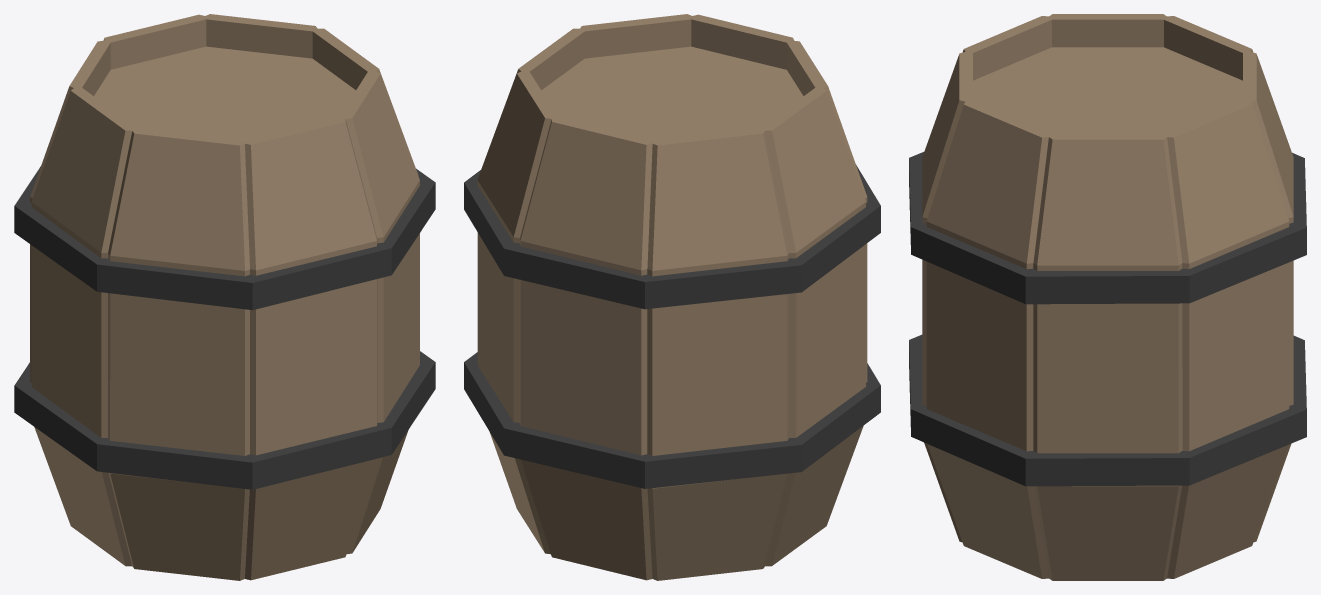
The model's file is fantasy_barrel_1.fbx.
3 renders of one model, left to right at view 1: azimuth 30°, elevation 25°; view 2: azimuth 150°, elevation 25°; view 3: azimuth 270°, elevation 25°, orthographic.
Visible parts, largest first — view 1: Cylinder.007; view 2: Cylinder.007; view 3: Cylinder.007.
Part boxes in pixels (x1=…): Cylinder.007: x1=14, y1=14, x2=435, y2=580; Cylinder.007: x1=464, y1=14, x2=880, y2=580; Cylinder.007: x1=909, y1=14, x2=1306, y2=580.
Size of the model in its own units: 65.33 by 80 by 65.33.
